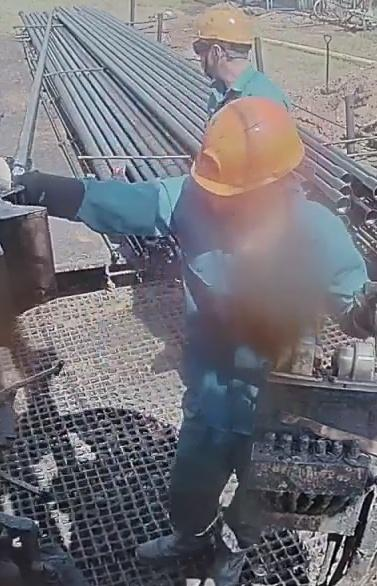gloves: (0, 151, 48, 209)
goggles: (191, 37, 216, 59)
helmet: (189, 95, 305, 196), (192, 3, 262, 45)
vest: (165, 184, 311, 435), (203, 77, 291, 112)
